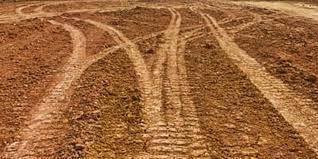vehicle_track: (200, 13, 318, 156), (0, 20, 86, 159), (85, 19, 170, 159), (146, 8, 190, 159), (83, 23, 208, 70), (177, 27, 213, 159)
